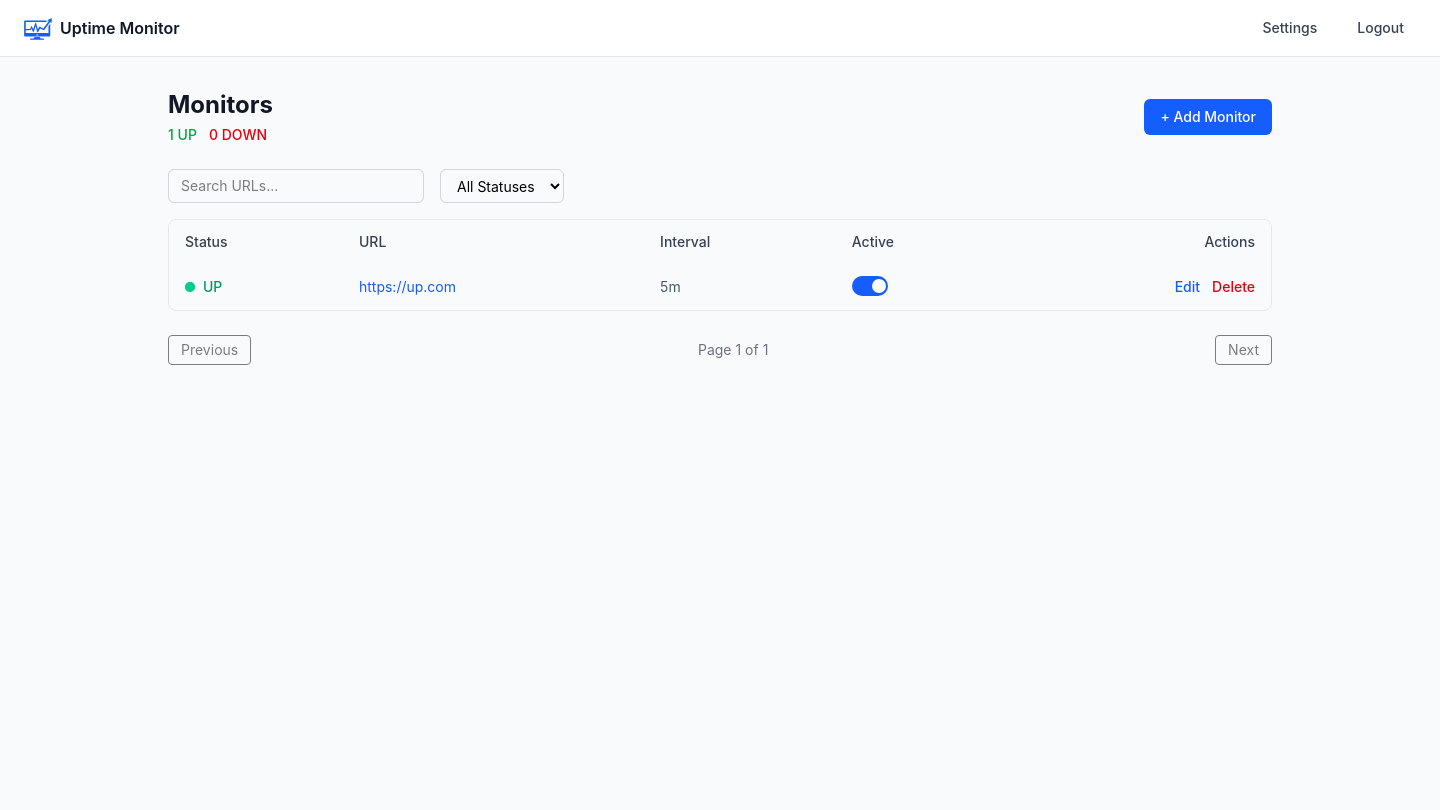
it: Dashboard › opens add monitor form
Click the button "+ Add Monitor" at {"x": 1208, "y": 117}, box [1144,99,1272,135]
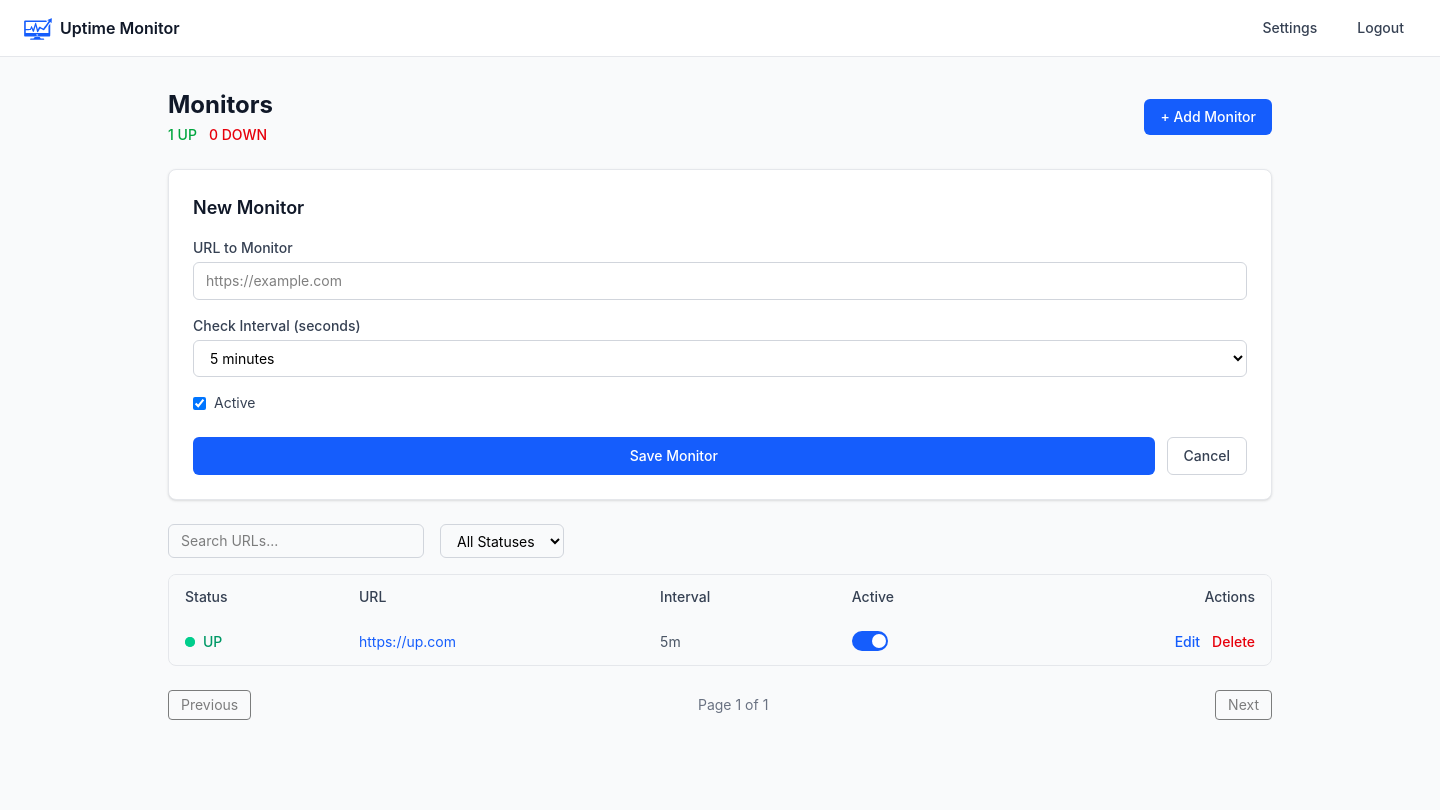
Expected: the heading "New Monitor" is shown, [193,197,304,218]
